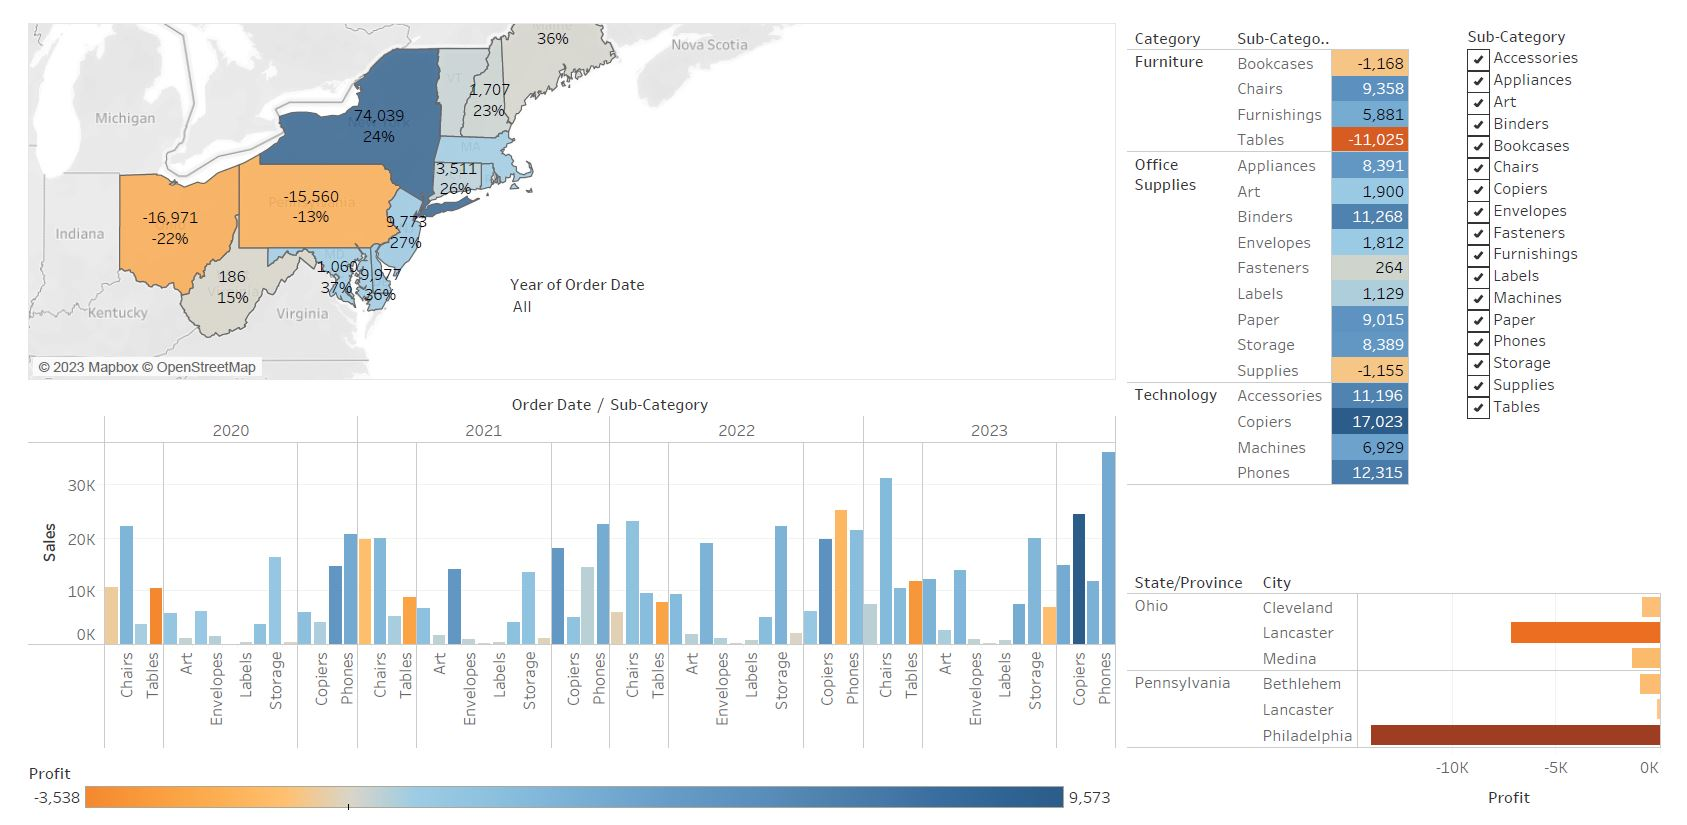

Layout of this report page (visuals, bound fields, positions):
{"tool":"tableau","page":{"name":"Regional Sales and Profit","canvas":[1300,650],"ordinal":0},"visuals":[{"type":"worksheet","title":"Profit Map East","mark":"Automatic","box":[8,8,858,286.6]},{"type":"worksheet","title":"Profit per Product/Category in East","mark":"Square","rows":["Category","Sub-Category"],"box":[866,8,266,425]},{"type":"filter","title":"Profit Map East","param":"[Sample - Superstore].[none:Sub-Category:nk]","box":[1132,8,160,425]},{"type":"filter","title":"Profit Map East","param":"[Sample - Superstore].[yr:Order Date:ok]","box":[388,206,218,59]},{"type":"worksheet","title":"Sales in the East","mark":"Automatic","rows":["Country/Region","Region","Sales"],"cols":["Order Date","Category","Sub-Category"],"box":[8,294.6,858,286.6]},{"type":"worksheet","title":"Negative Profit per city in East","mark":"Automatic","rows":["Country/Region","Region","State/Province","City"],"cols":["Profit"],"box":[866,433,426,209]},{"type":"legend","title":"Sales in the East","param":"[Sample - Superstore].[sum:Profit:qk]","box":[8,581.2,858,60.8]}]}

Visuals, with their boxes in screenshot pixels (x1, y1, x2, y2), scaled from the page's 1300x650 canvas onto the 1687x825 screenshot:
"Profit Map East" worksheet: 10,10,1124,374
"Profit per Product/Category in East" worksheet (Square marks): 1124,10,1469,550
"Profit Map East" filter: 1469,10,1677,550
"Profit Map East" filter: 504,261,786,336
"Sales in the East" worksheet: 10,374,1124,738
"Negative Profit per city in East" worksheet: 1124,550,1677,815
"Sales in the East" legend: 10,738,1124,815
